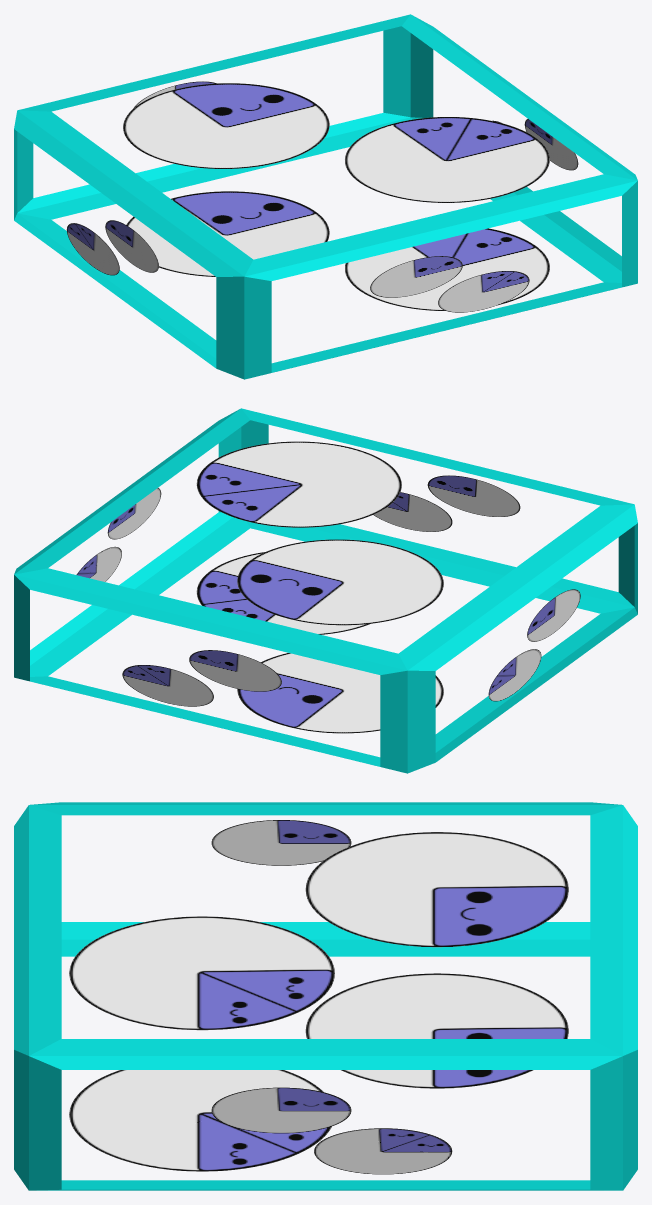
The model's file is Fracciones dos  octavos.fbx.
The picture shows the model from 3 angles, top to bottom: view 1: azimuth 30°, elevation 25°; view 2: azimuth 150°, elevation 25°; view 3: azimuth 270°, elevation 25°; orthographic projection. The views are drawn at different scales.
Visible parts, largest first — view 1: 2/8; view 2: 2/8; view 3: 2/8.
Boxes of the visible parts, x1,y1,x2,y2 form: 2/8: [14, 14, 637, 379]; 2/8: [14, 408, 637, 773]; 2/8: [14, 802, 637, 1190].
Bounding box in the file's own units: 213 × 52.5 × 210.
Materials: 2 (1 with a texture image).
